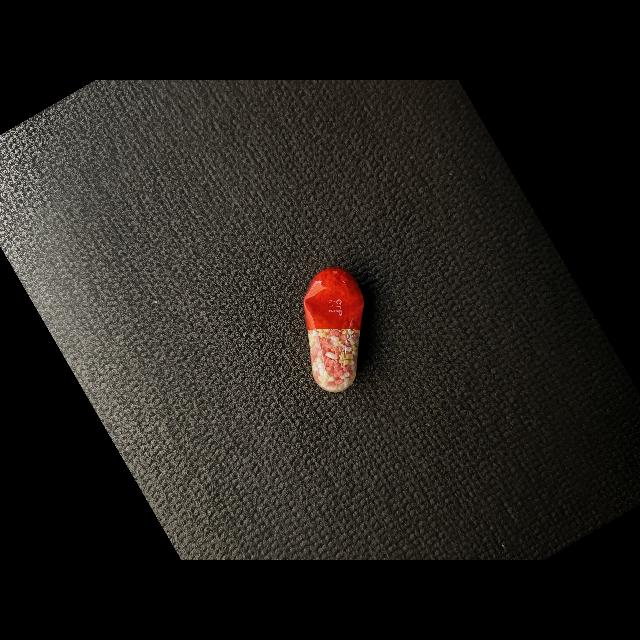Defective Capsule: (303, 267, 364, 392)
